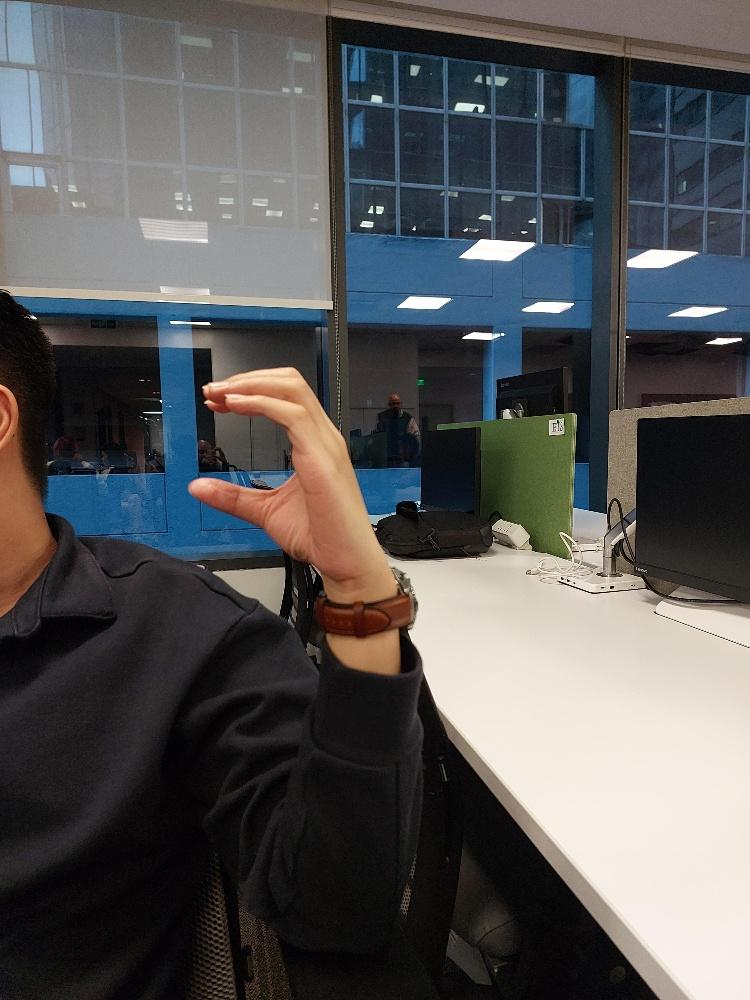c: (187, 365, 376, 572)
